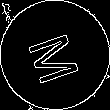M_E: (24, 25, 86, 85)
